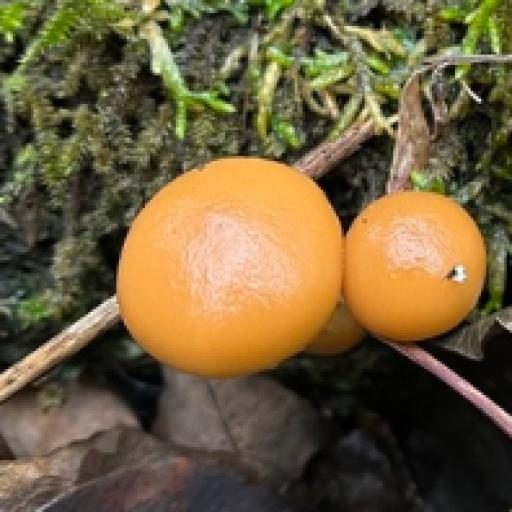mushroom: (114, 146, 492, 385)
